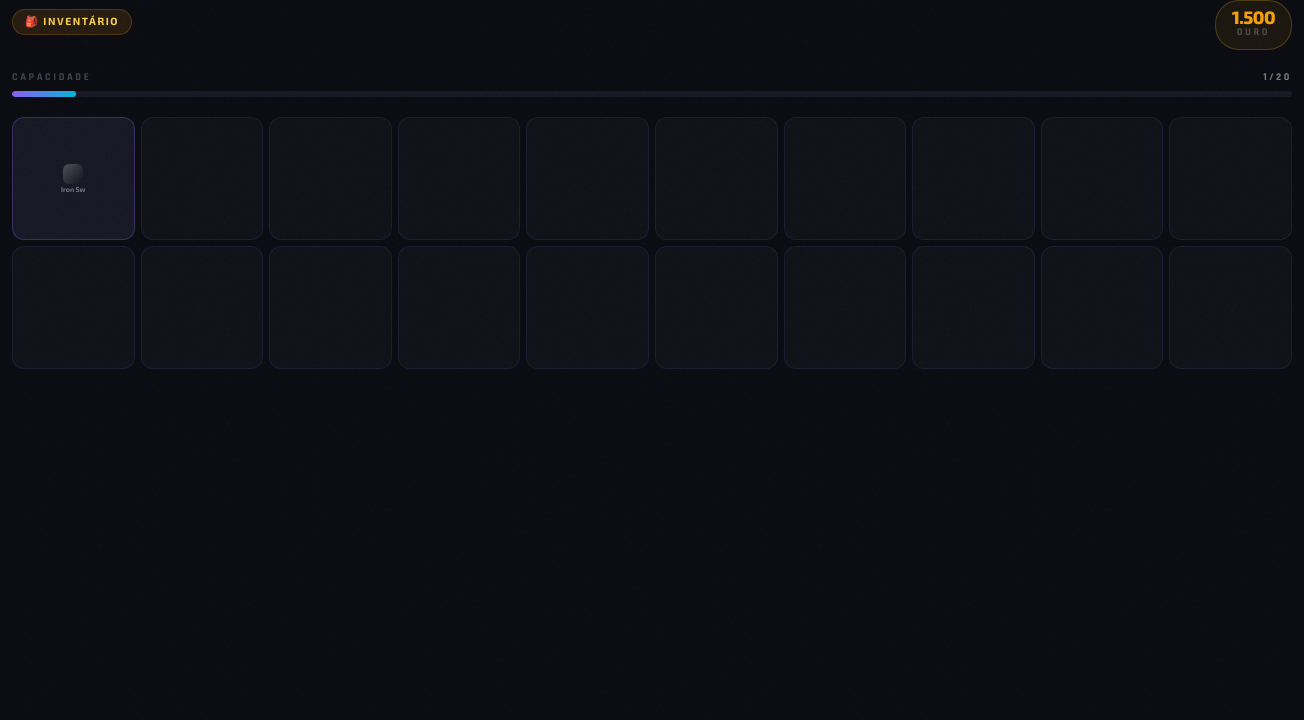
it: InventoryPanel › erro no equip exibe mensagem de erro
Click the button titled "Iron Sword". click: (73, 179)
box: [12,117,135,240]
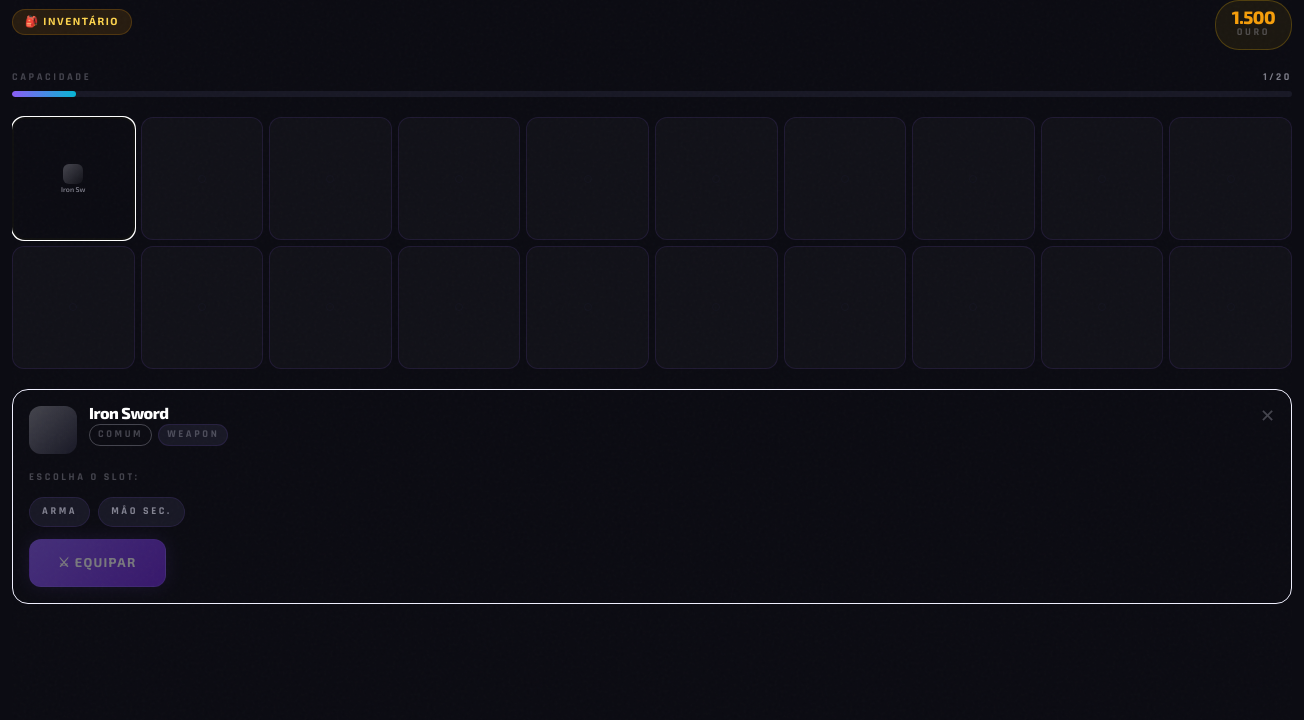
Click the button "Arma". click: (60, 512)
box: [29,497,90,527]
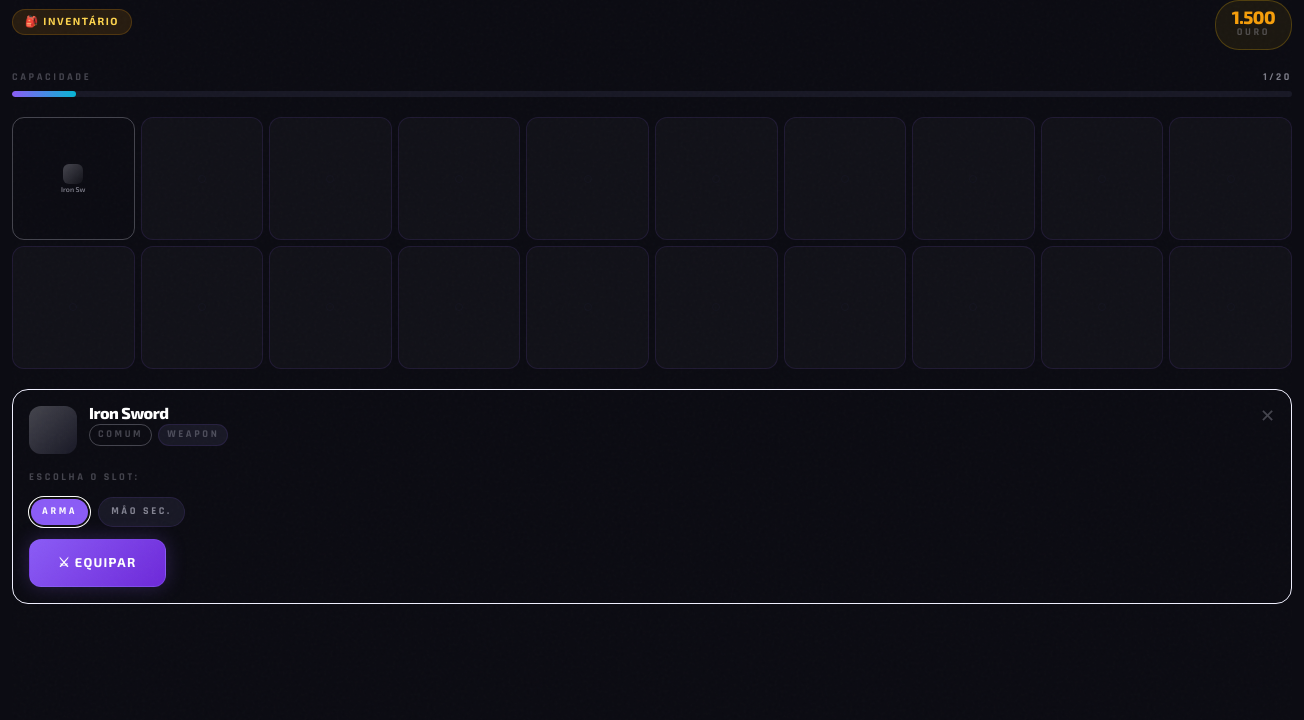
Click the button "⚔ Equipar". click: (97, 563)
box: [29,539,166,587]
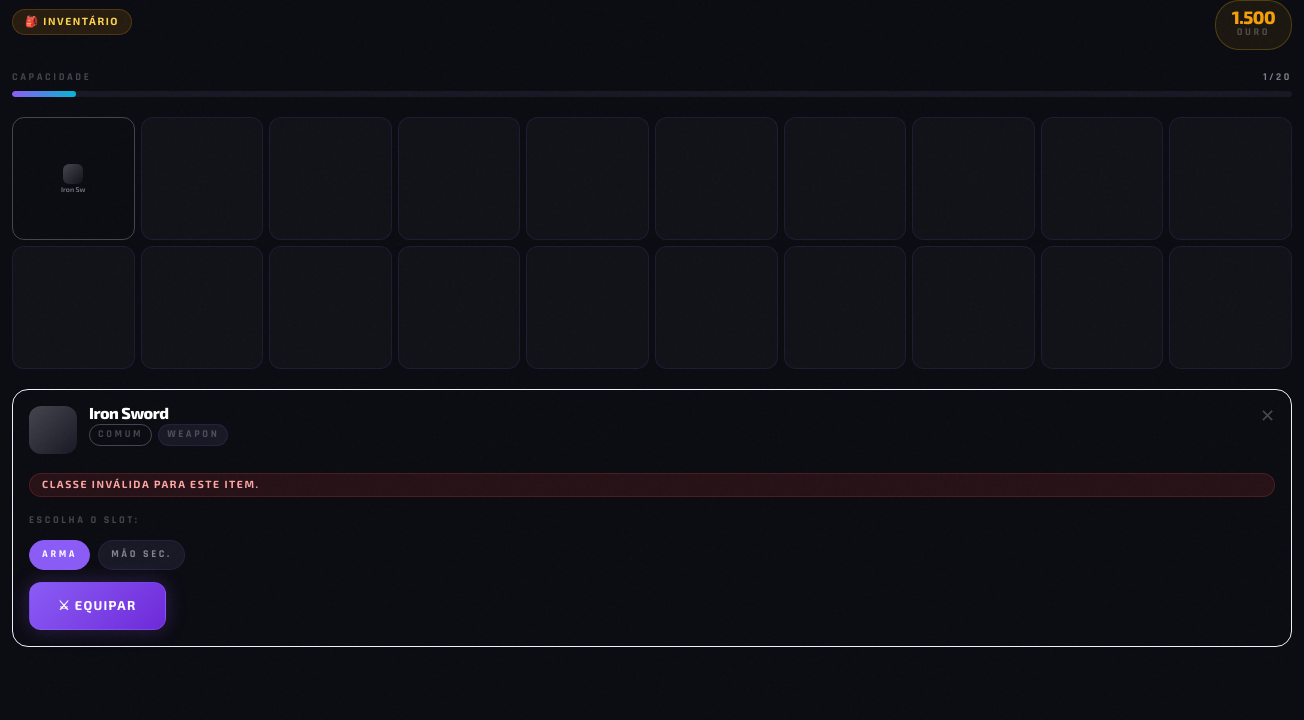
Check: the text "Classe inválida para este item." is shown, box [29,473,1275,496]
